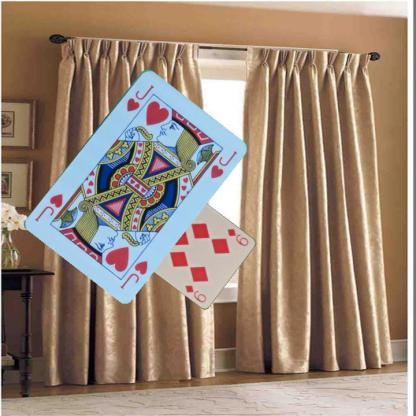9d: (225, 226, 250, 247)
Jh: (117, 257, 149, 291), (124, 82, 155, 112)
